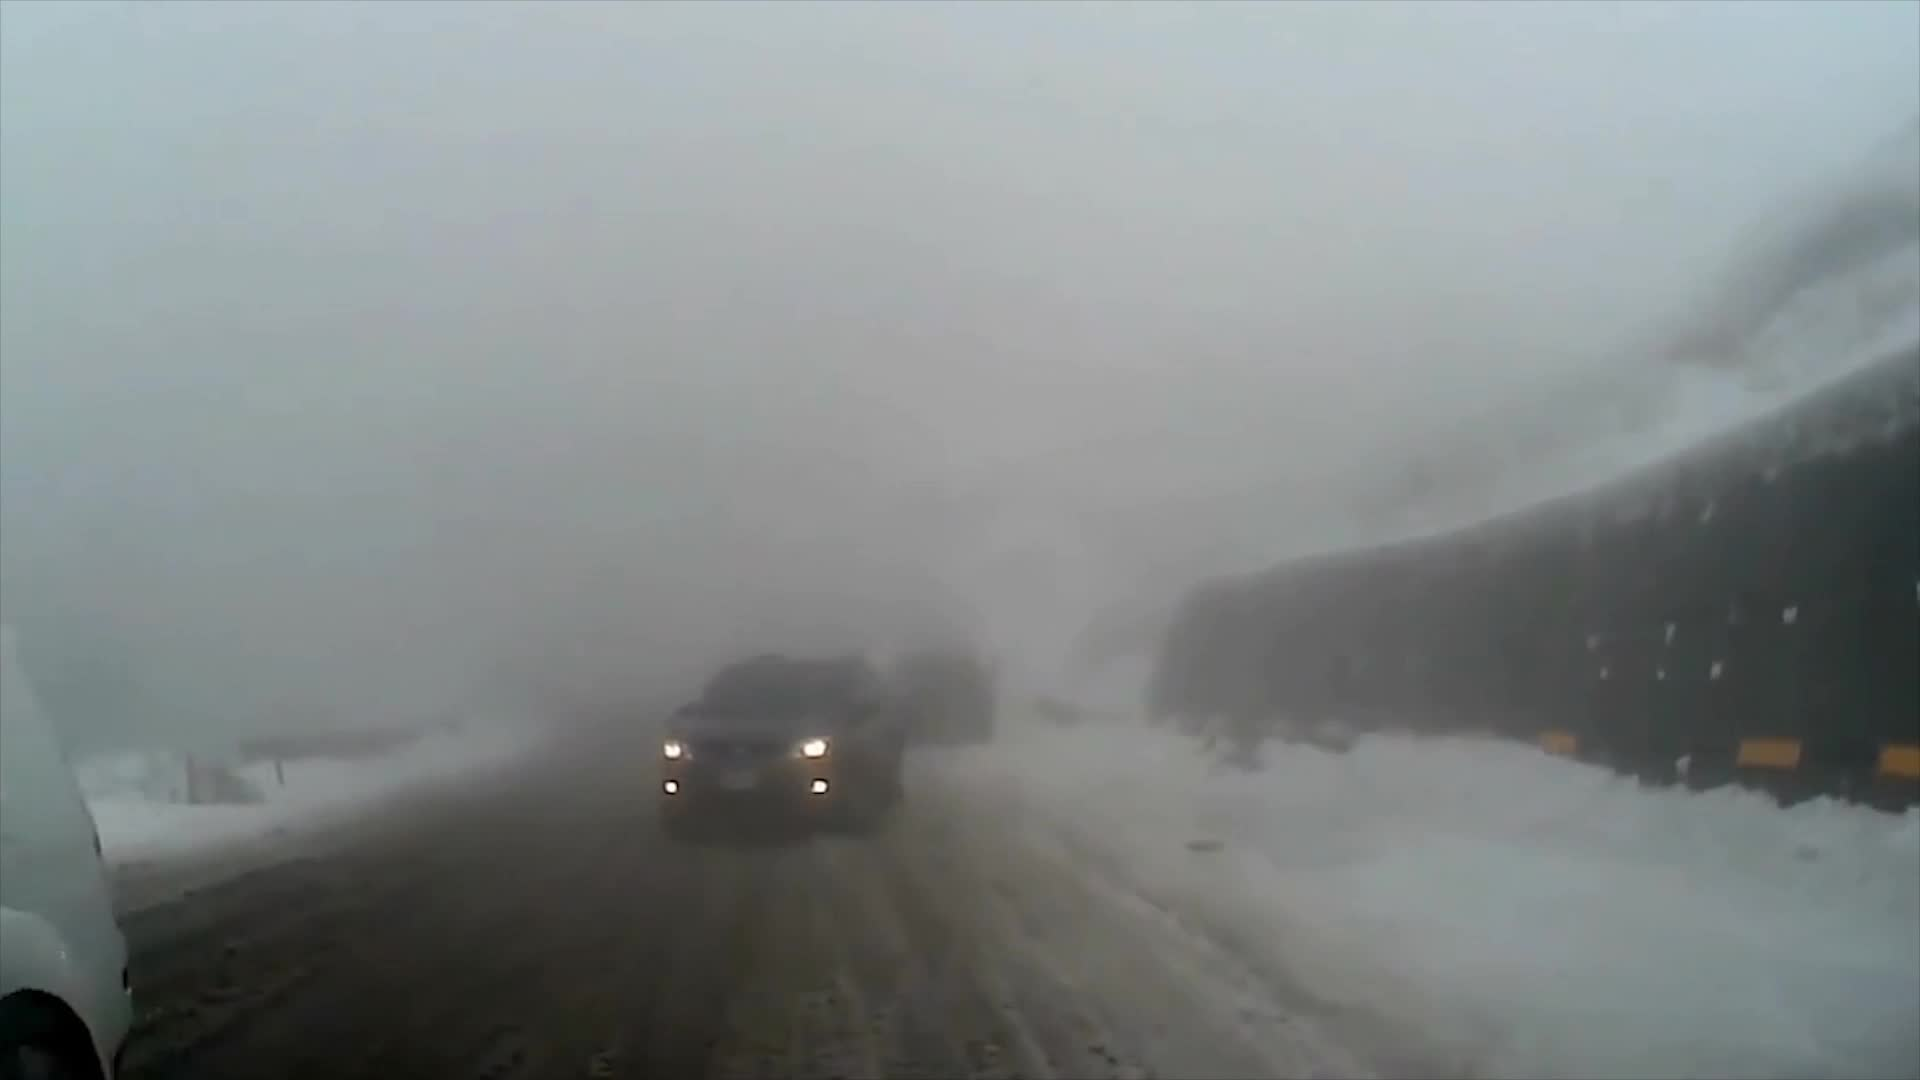vehicle: (0, 653, 135, 1079), (650, 653, 898, 841)
